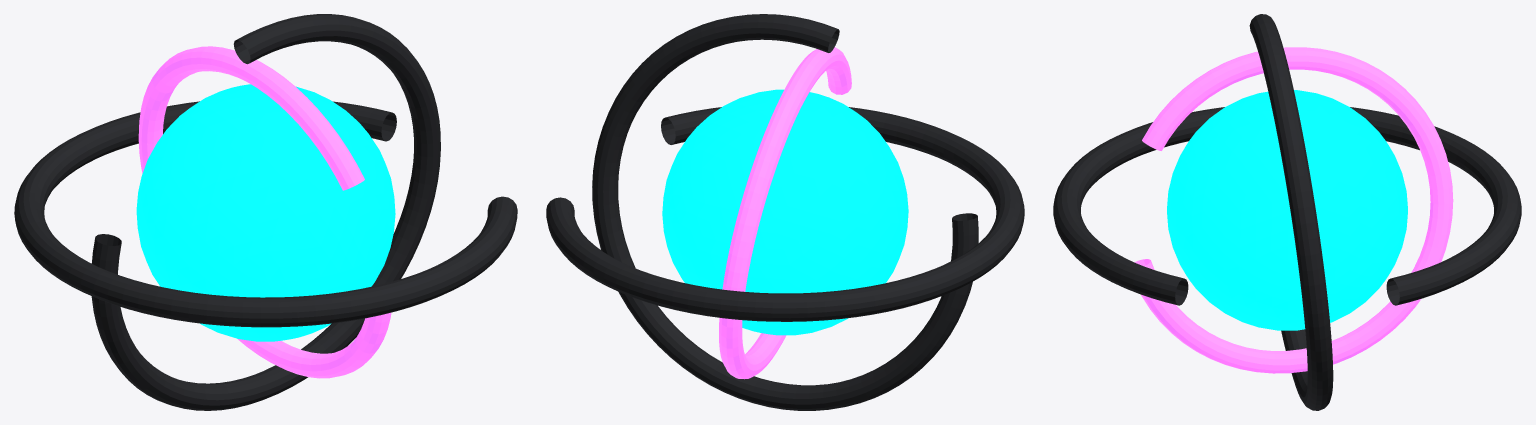
Rendered from ai-core.glb.
The picture shows the model from 3 angles, left to right: view 1: azimuth 30°, elevation 25°; view 2: azimuth 150°, elevation 25°; view 3: azimuth 270°, elevation 25°; orthographic projection. The views are drawn at different scales.
Parts seen in each view (by area): view 1: AI_Core; view 2: AI_Core; view 3: AI_Core.
Part boxes in pixels (x1=…): AI_Core: x1=14, y1=14, x2=517, y2=410; AI_Core: x1=546, y1=14, x2=1024, y2=410; AI_Core: x1=1053, y1=14, x2=1521, y2=410.
Size of the model in its own units: 1.9 by 1.74 by 2.02.
